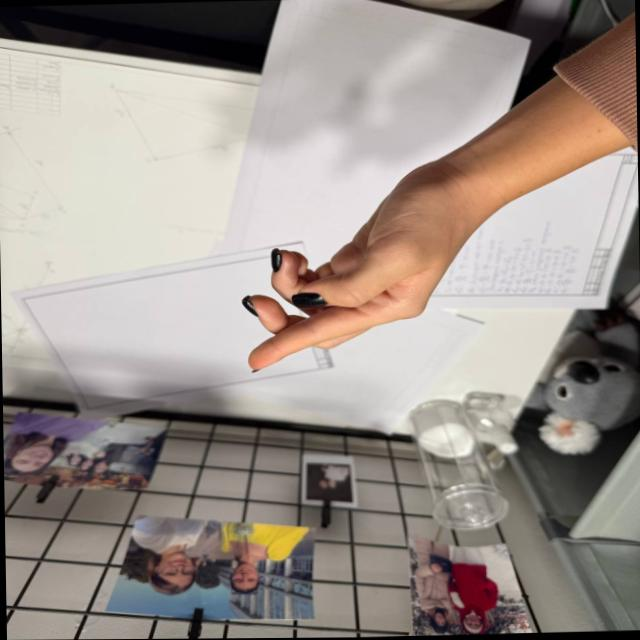b: (233, 175, 448, 380)
